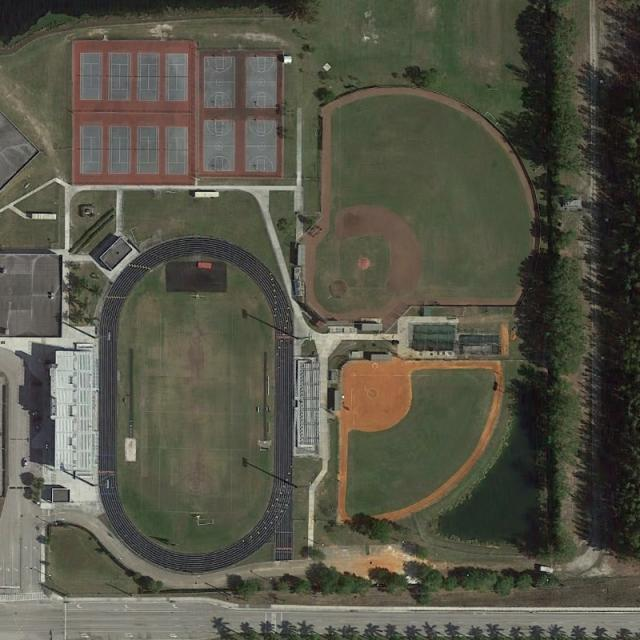vehicle: (539, 566, 554, 573), (32, 425, 40, 432), (22, 458, 27, 468), (31, 410, 38, 415), (46, 442, 49, 450)
